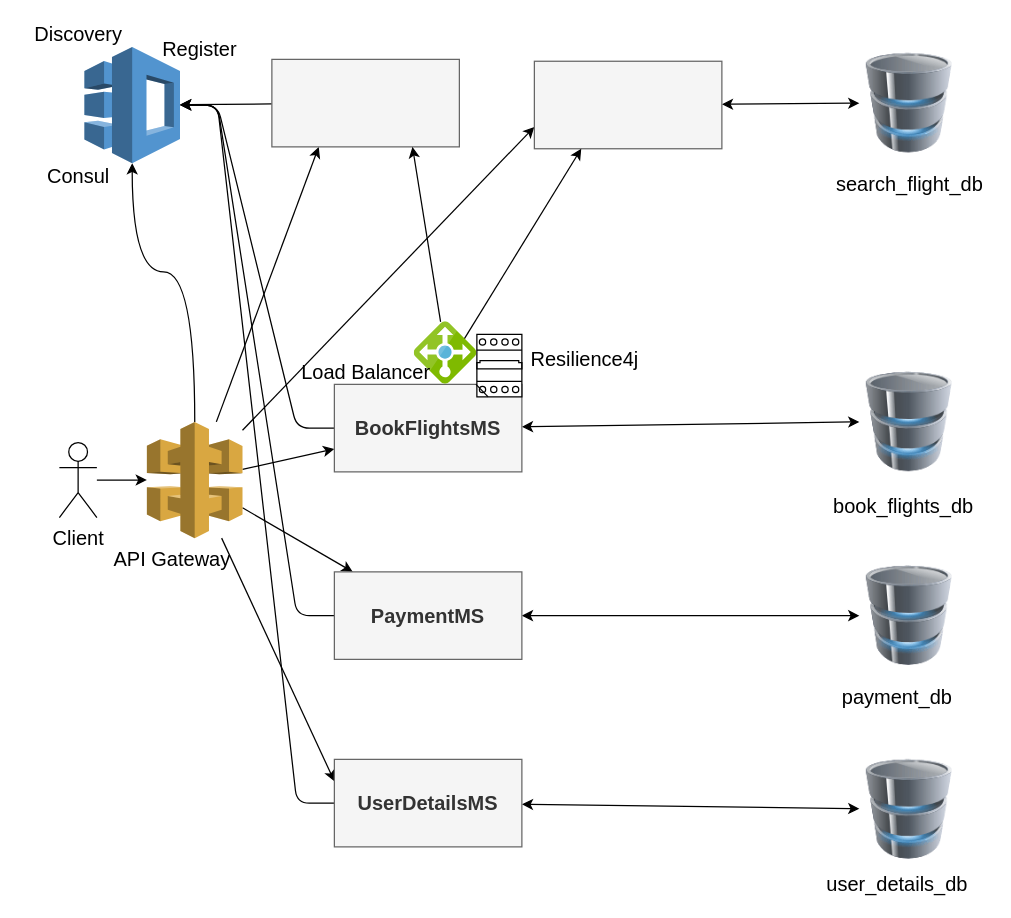
This 1011x918 diagram has some shape labels left out. Each missing label, with the box of its shape:
SearchFlightMS 1: (271, 58, 459, 147)
SearchFlightMS 2: (533, 60, 722, 149)
